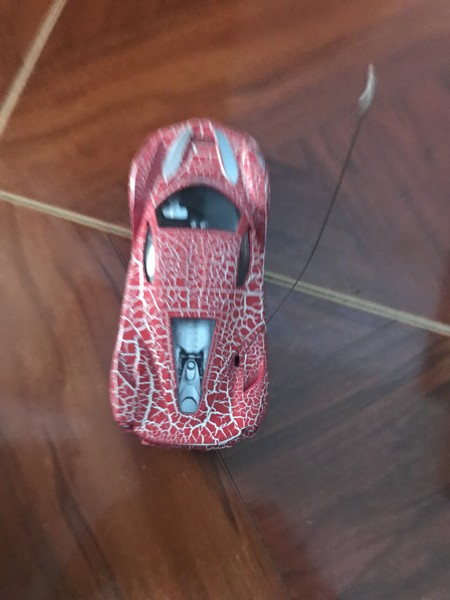RC: (107, 112, 273, 454)
